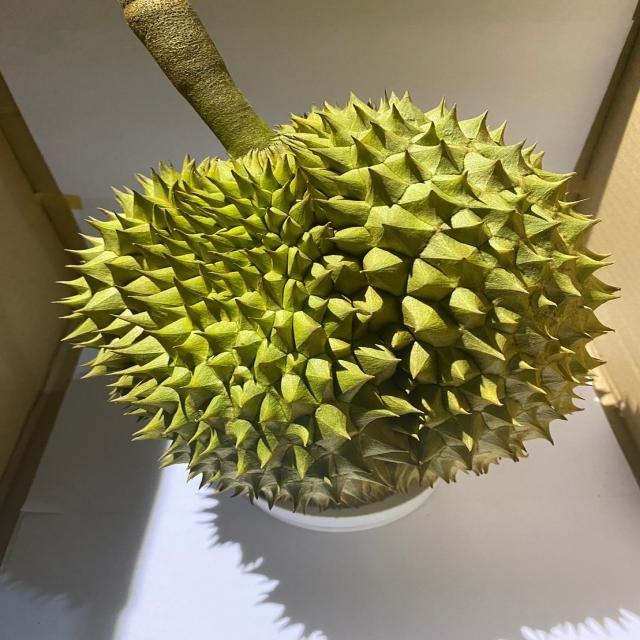immature: (55, 88, 617, 514)
